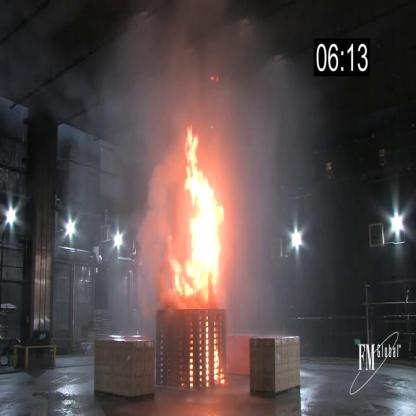fire: (166, 122, 228, 308), (214, 345, 219, 382)
